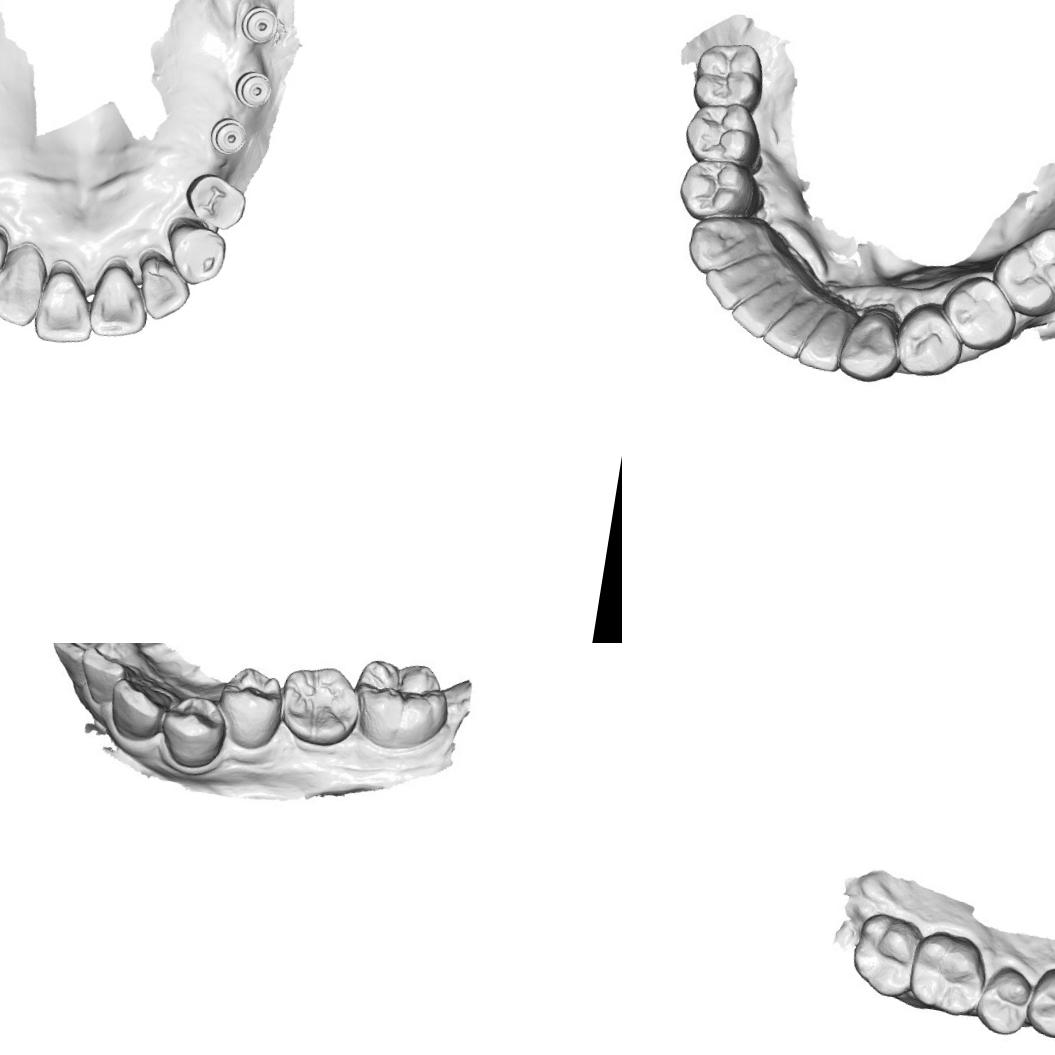canine: (676, 208, 780, 278), (154, 690, 235, 779), (835, 296, 912, 388), (158, 215, 230, 291)
implant: (237, 2, 283, 47), (230, 67, 276, 112), (206, 115, 250, 158)
incisor: (30, 258, 101, 348), (86, 259, 155, 342), (704, 246, 784, 316), (107, 674, 180, 743), (766, 286, 830, 363), (734, 267, 800, 340), (0, 238, 52, 330), (132, 250, 196, 324), (800, 296, 854, 376), (76, 646, 140, 710)
molar: (354, 653, 455, 753), (904, 926, 994, 1020), (982, 221, 1055, 327), (847, 909, 923, 1002), (690, 36, 774, 115)
premolar: (277, 659, 366, 744), (940, 270, 1020, 356), (679, 95, 766, 174), (892, 297, 971, 383), (672, 152, 758, 224), (218, 664, 294, 744), (974, 960, 1036, 1041), (181, 169, 250, 233), (1022, 962, 1055, 1045)
